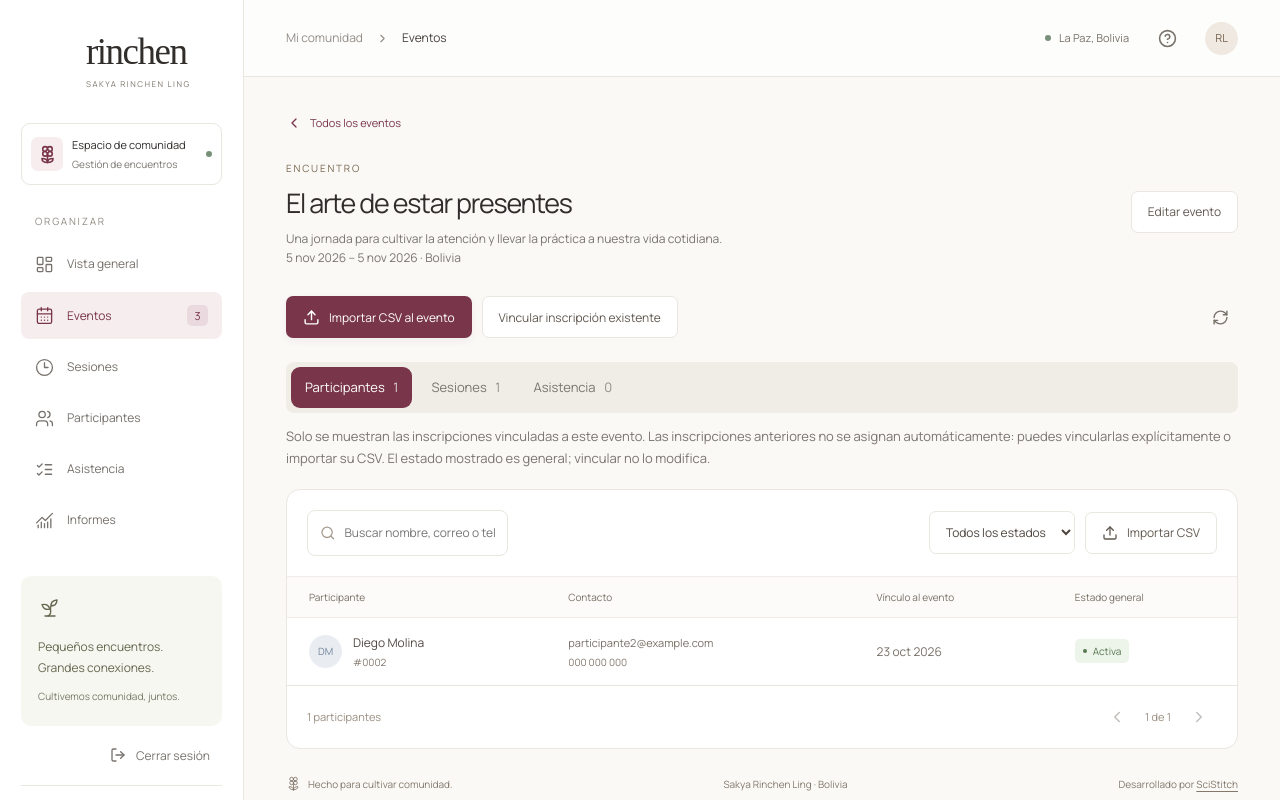
Scenario: binds CSV import to the displayed event and includes CSRF without duplicating backend policy
The image size is (1280, 800).
Expected: the heading "El arte de estar presentes" is shown, [286,184,572,221]
What coordinates should you click on to do the following:
click the button "Importar CSV al evento"
I would click on:
 (379, 317)
Its box is [286,296,472,338].
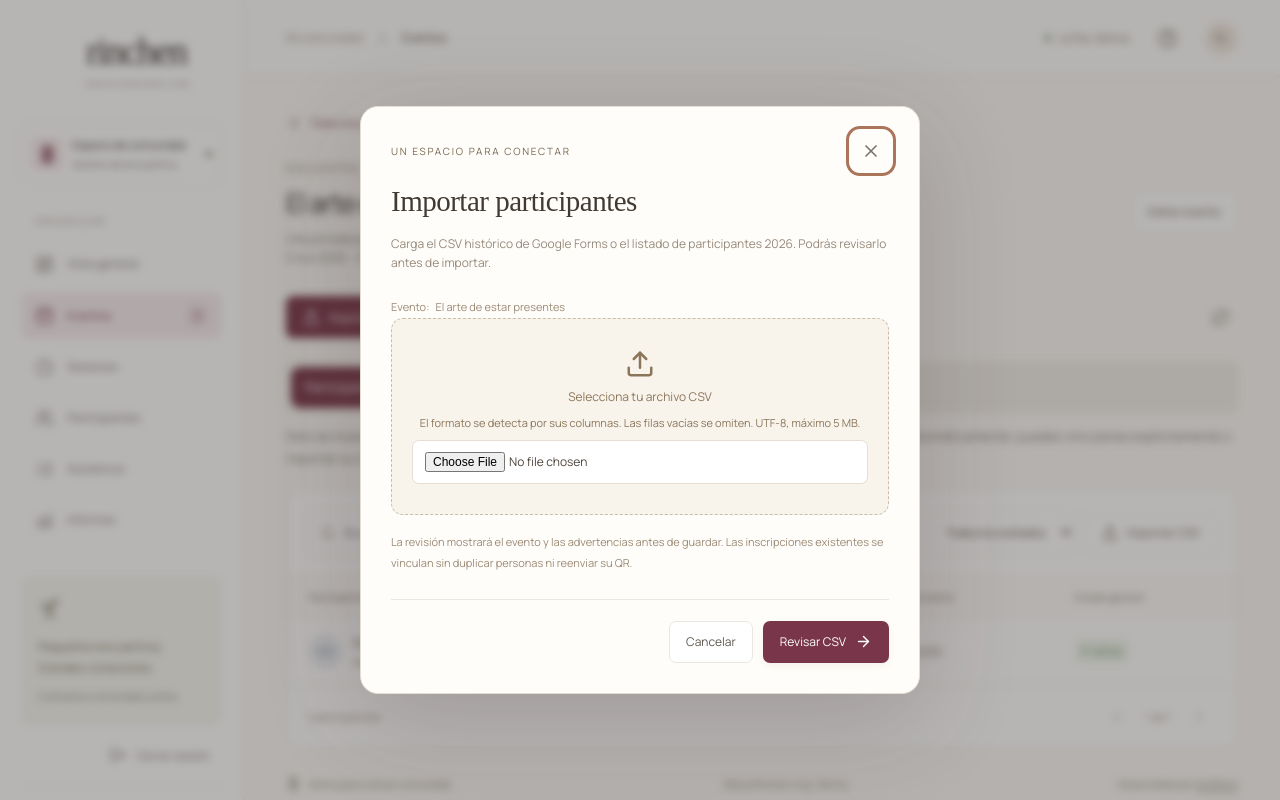
Now the form named "event_id" holds "2", box [391,297,889,663]
Now the form named "csrf_token" holds "event-csrf", box [391,297,889,663]
Now the text "El arte de estar presentes" is shown, box [435,297,565,318]
